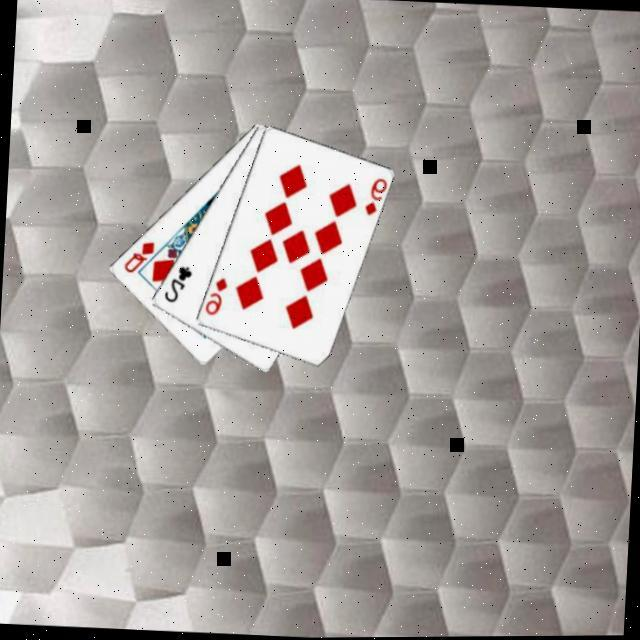2C: (161, 264, 195, 308)
9D: (202, 276, 231, 321), (362, 177, 389, 222)
QD: (121, 239, 158, 279)
